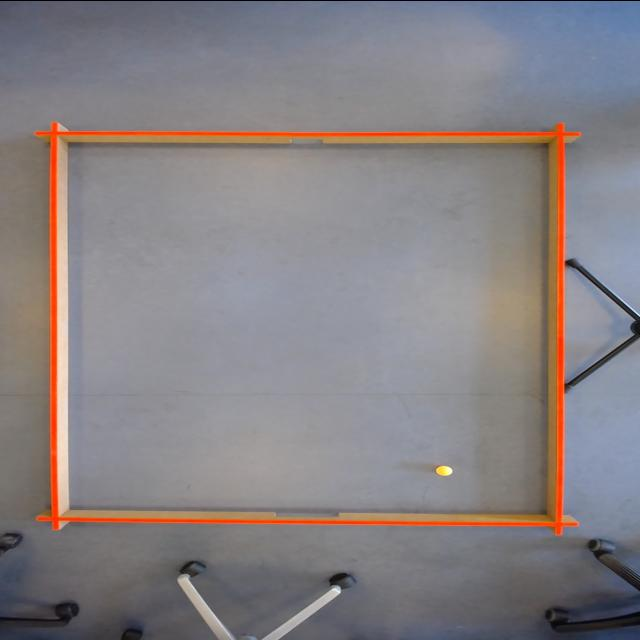orange_ball: (434, 464, 455, 475)
